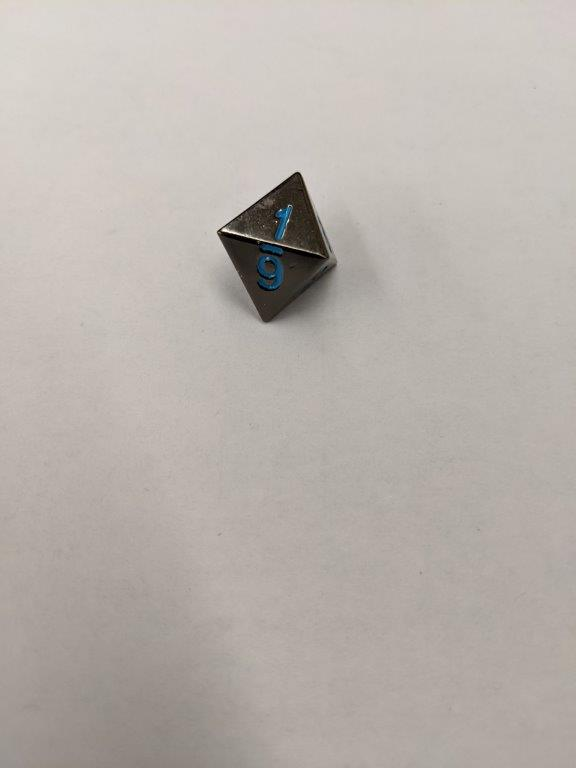d8-1: (214, 169, 339, 324)
